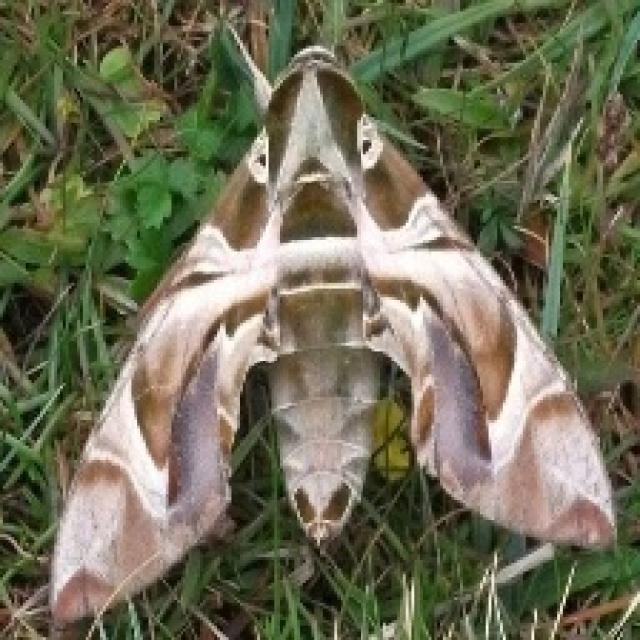butterfly: (46, 20, 617, 637)
